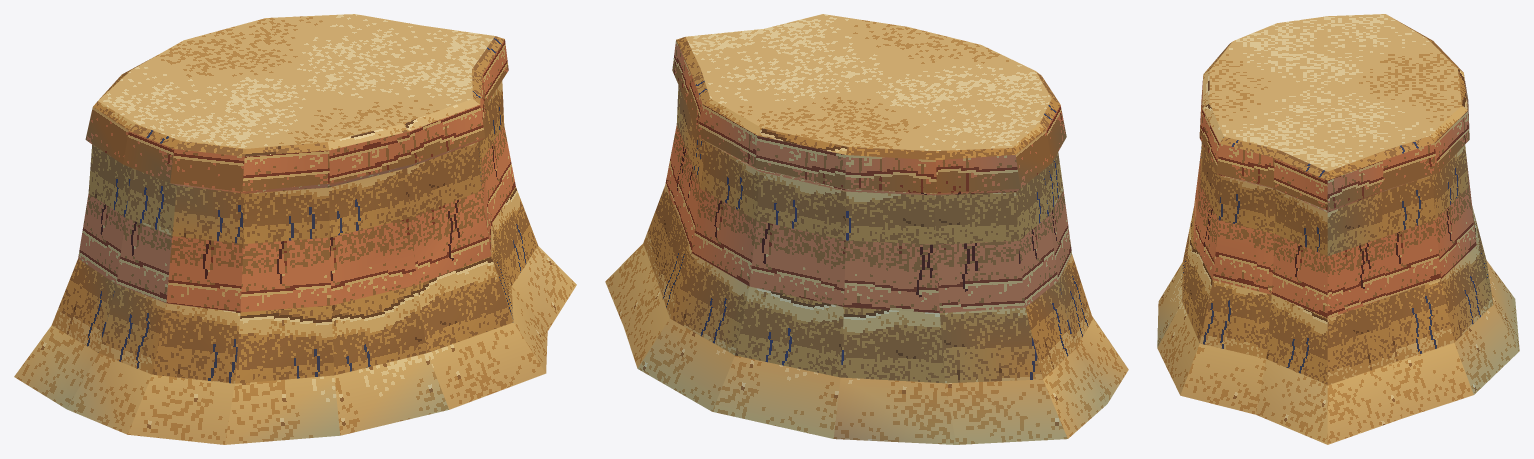
Rendered from wland.mesa__small.glb.
The picture shows the model from 3 angles, left to right: view 1: azimuth 30°, elevation 25°; view 2: azimuth 150°, elevation 25°; view 3: azimuth 270°, elevation 25°; orthographic projection. The views are drawn at different scales.
Parts seen in each view (by area): view 1: kit_mesa; view 2: kit_mesa; view 3: kit_mesa.
Boxes of the visible parts, bbox=[...] form: kit_mesa: bbox=[14, 14, 576, 444]; kit_mesa: bbox=[605, 14, 1128, 444]; kit_mesa: bbox=[1157, 14, 1519, 444].
Bounding box in the file's own units: 14.08 × 7 × 9.66.
Materials: 4 (4 with a texture image).
